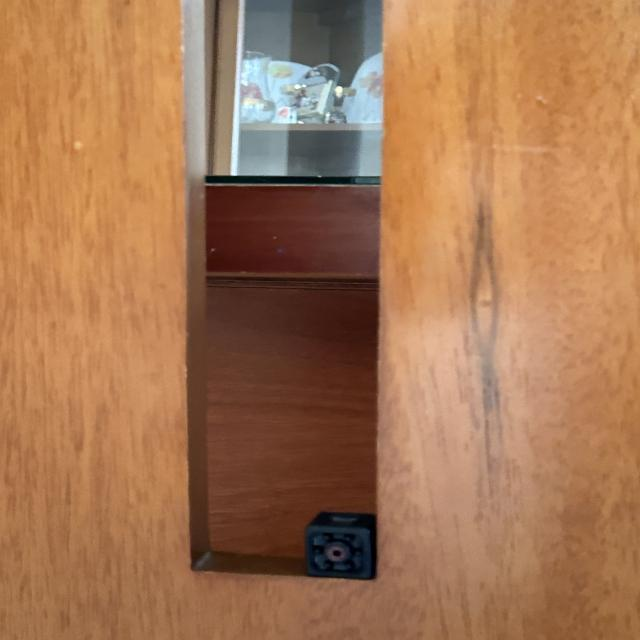hidden camera: (326, 544, 351, 563)
